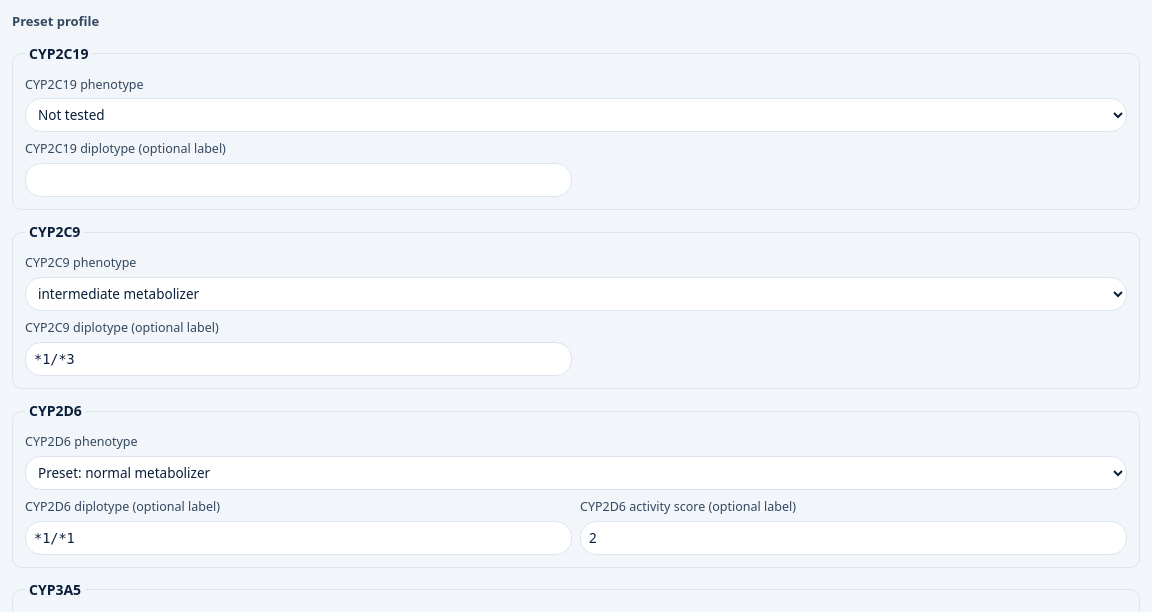
Test: ProfileEditor › changing a select updates the request payload
Select "intermediate metabolizer" in the dropdown labelled "CYP2C19 phenotype" at {"x": 576, "y": 115}, box [25,98,1127,132]
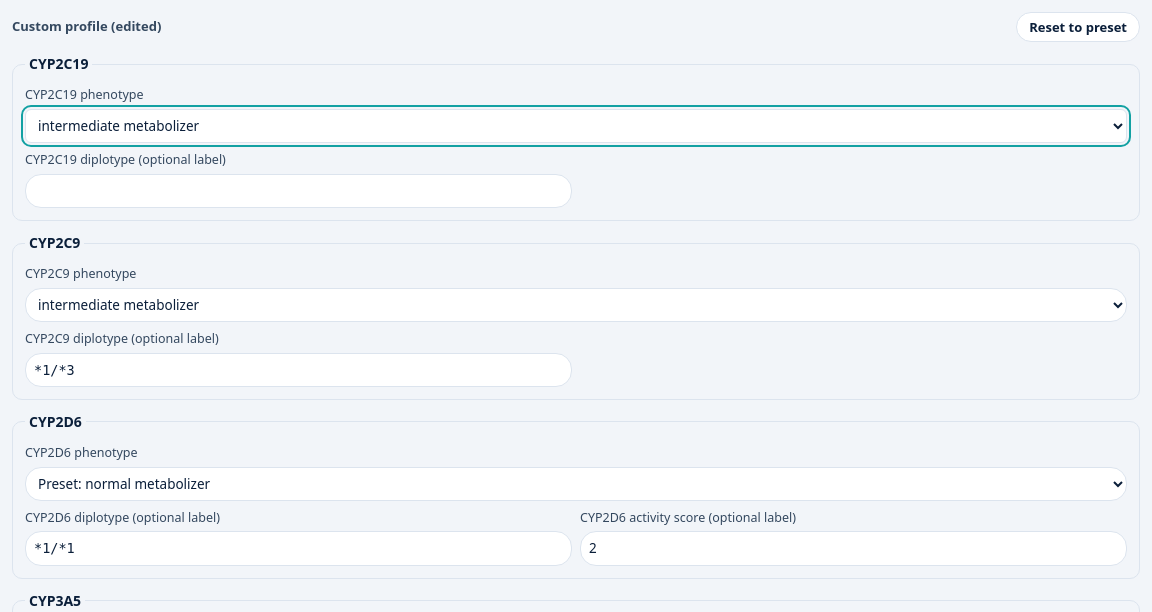
Check: the text "Custom profile (edited)" is shown, box [12,17,161,37]
